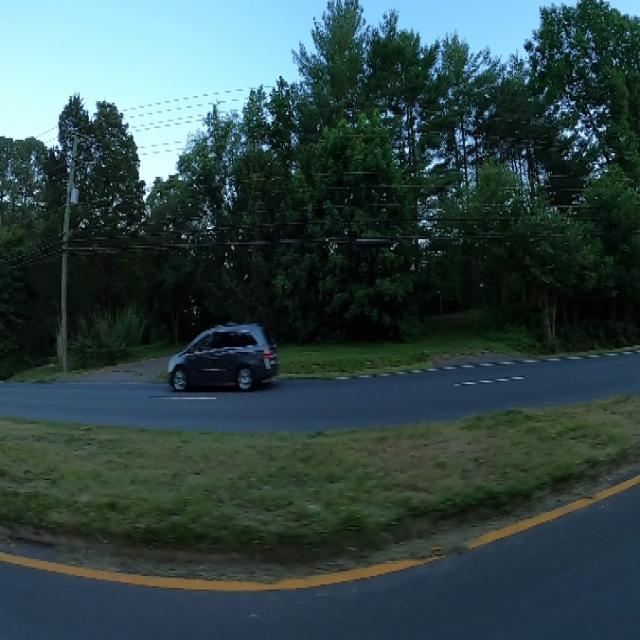car: (159, 303, 288, 414)
